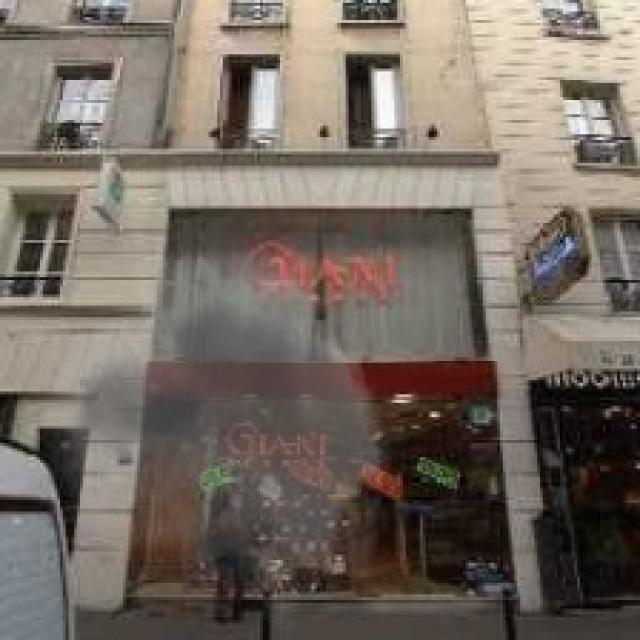Smoke: (40, 234, 406, 632)
